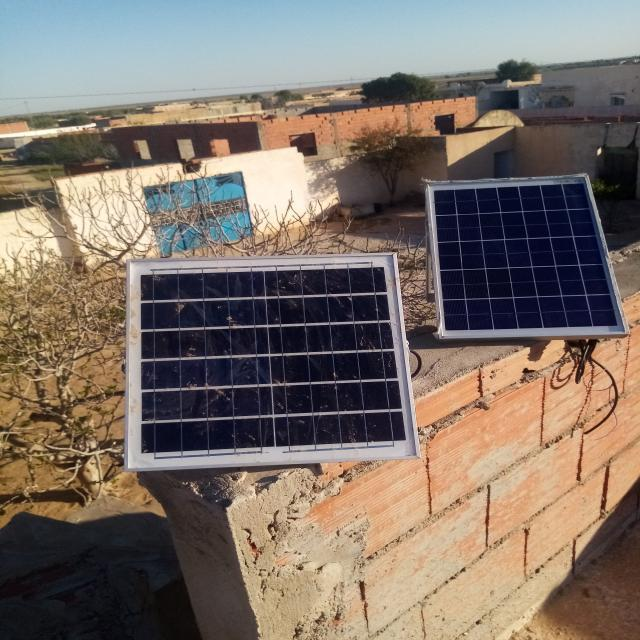faulty: (126, 254, 419, 469)
no faulty: (426, 173, 631, 339)
